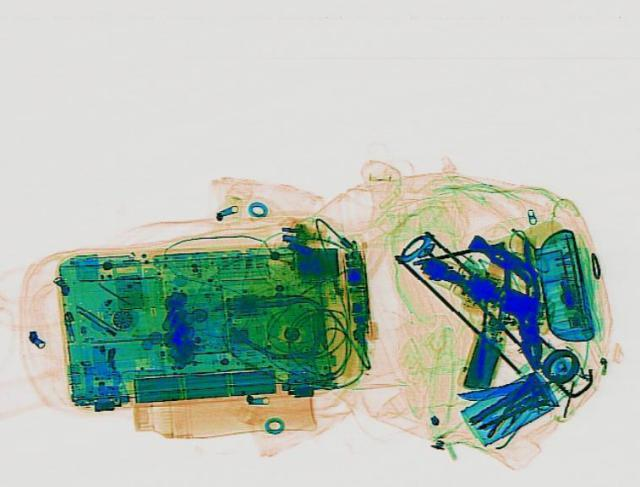Knife: (453, 380, 529, 402)
